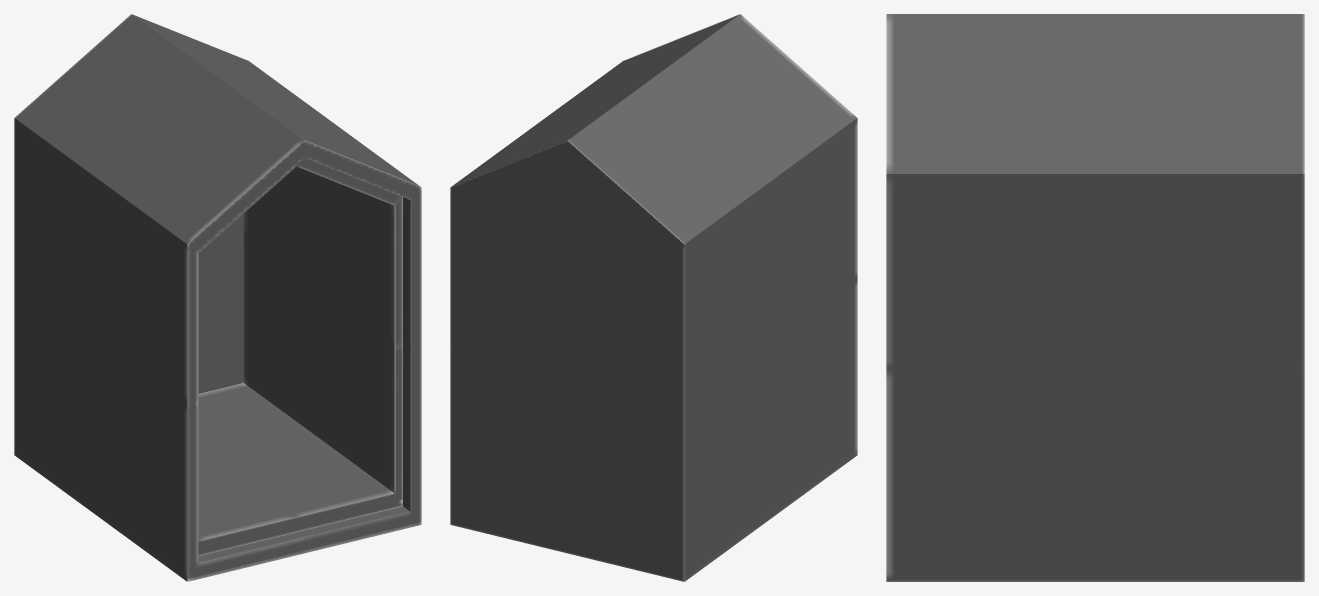
File: CasaXD--Cementerio.fbx
3 views of the same model, side by side, from view 1: azimuth 30°, elevation 25°; view 2: azimuth 150°, elevation 25°; view 3: azimuth 270°, elevation 25° (orthographic). The views are drawn at different scales.
Parts seen in each view (by area): view 1: Estructura; view 2: Estructura; view 3: Estructura.
Part boxes in pixels (x1,y1,x2,y2): Estructura: [14, 14, 421, 581]; Estructura: [450, 14, 857, 581]; Estructura: [886, 14, 1304, 581].
Size of the model in its own units: 1007 by 1696 by 1288.
